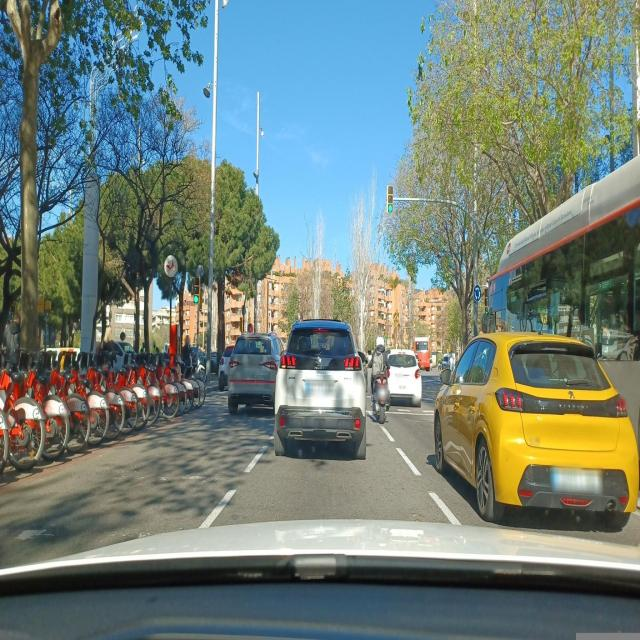bike: (5, 360, 70, 460), (0, 367, 44, 472), (85, 357, 126, 437), (101, 360, 144, 432), (160, 359, 188, 415), (369, 363, 392, 423), (179, 362, 205, 408)
car: (433, 322, 639, 528), (274, 318, 367, 459), (227, 331, 284, 415), (383, 348, 422, 407), (218, 344, 236, 392)
